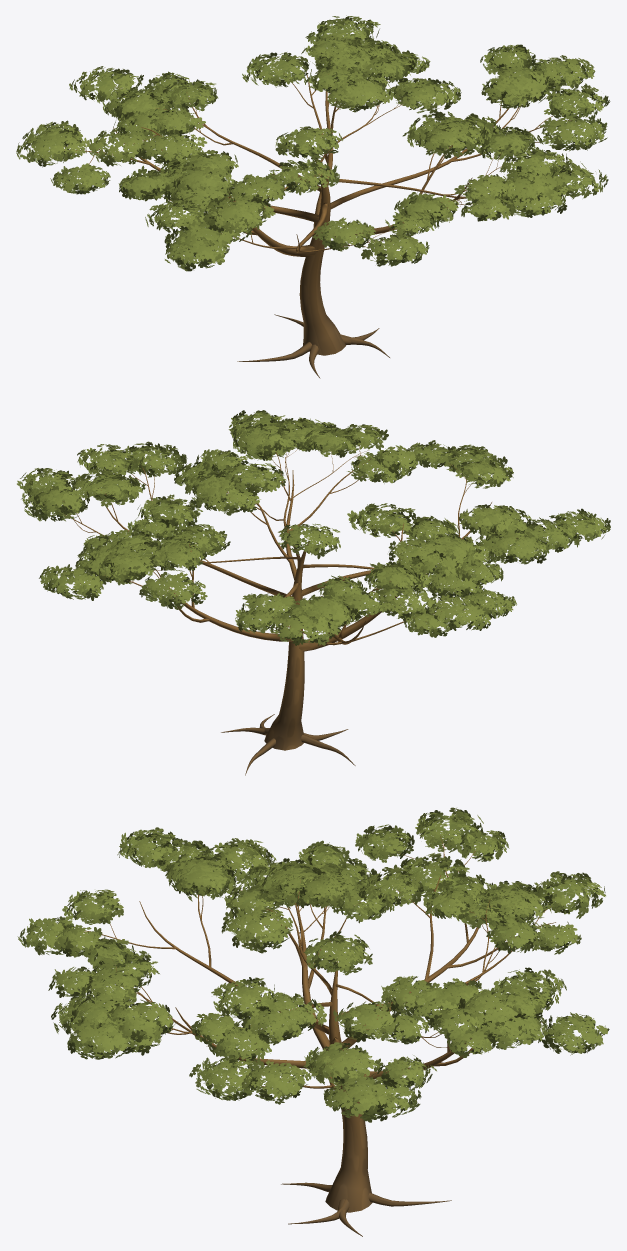
File: tree.gltf
3 views of the same model, one above another, from view 1: azimuth 30°, elevation 25°; view 2: azimuth 150°, elevation 25°; view 3: azimuth 270°, elevation 25° (orthographic). The views are drawn at different scales.
Parts seen in each view (by area): view 1: Tree_LOD0; view 2: Tree_LOD0; view 3: Tree_LOD0.
Boxes of the visible parts, x1,y1,x2,y2 form: Tree_LOD0: [16, 15, 610, 378]; Tree_LOD0: [17, 410, 610, 775]; Tree_LOD0: [17, 807, 609, 1236].
Bounding box in the file's own units: 34.7 × 14.71 × 30.14.
2 materials, 2 textured.
